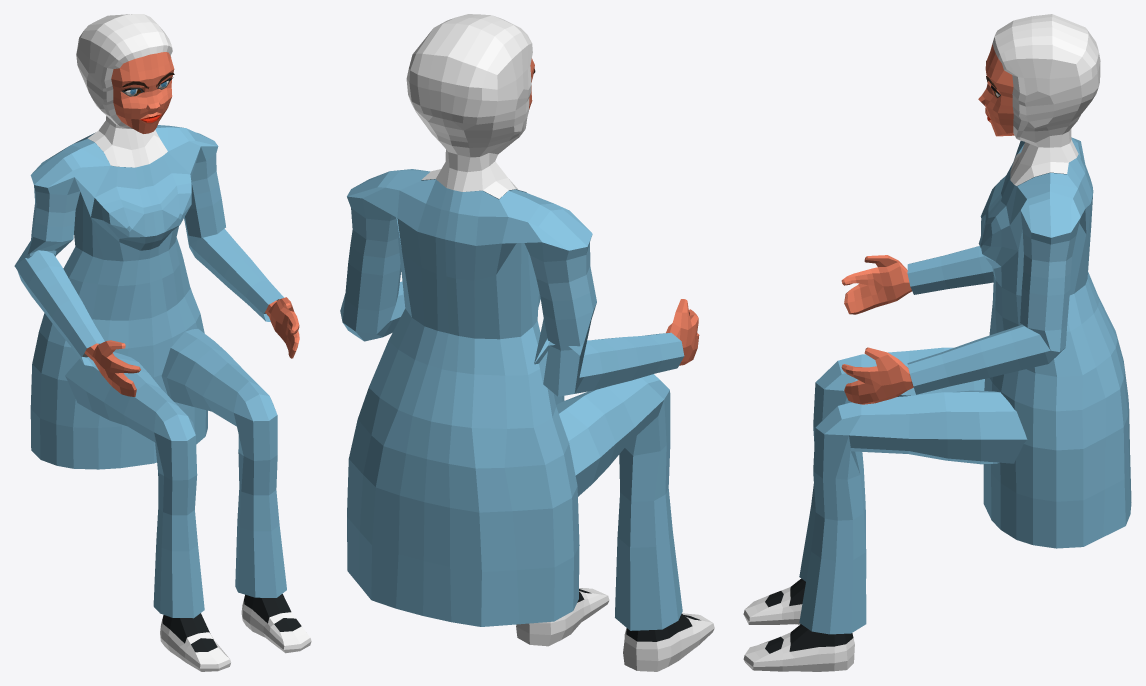
File: Nurse_Sit.fbx
3 renders of one model, left to right at view 1: azimuth 30°, elevation 25°; view 2: azimuth 150°, elevation 25°; view 3: azimuth 270°, elevation 25°, orthographic. The views are drawn at different scales.
Parts seen in each view (by area): view 1: Nurse_Sit; view 2: Nurse_Sit; view 3: Nurse_Sit.
Boxes of the visible parts, x1,y1,x2,y2 form: Nurse_Sit: [14, 14, 311, 671]; Nurse_Sit: [340, 14, 714, 671]; Nurse_Sit: [743, 14, 1131, 671].
Size of the model in its own units: 0.2819 by 0.7132 by 0.4047.
